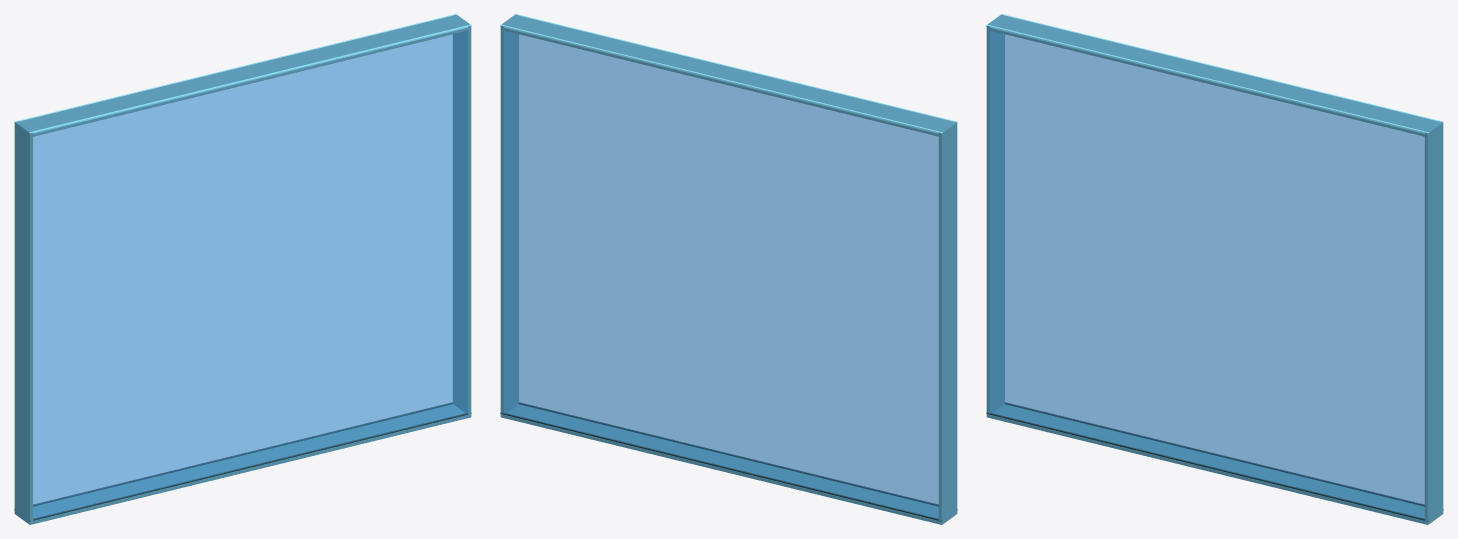
Rendered from SM_VR_Wall_PalletToCorridorA.fbx.
3 renders of one model, left to right at view 1: azimuth 30°, elevation 25°; view 2: azimuth 150°, elevation 25°; view 3: azimuth 330°, elevation 25°, orthographic.
Parts seen in each view (by area): view 1: SM_VR_Wall_PalletToCorridorA; view 2: SM_VR_Wall_PalletToCorridorA; view 3: SM_VR_Wall_PalletToCorridorA.
Boxes of the visible parts, box(x1,y1,x2,y2) form: SM_VR_Wall_PalletToCorridorA: box(14, 14, 471, 524); SM_VR_Wall_PalletToCorridorA: box(500, 14, 957, 524); SM_VR_Wall_PalletToCorridorA: box(986, 14, 1443, 524).
Size of the model in its own units: 330 by 20 by 280.
